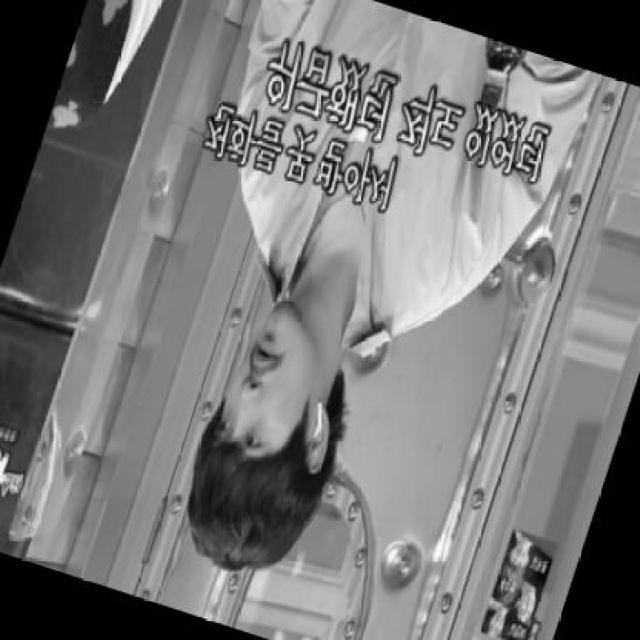earphone: (311, 395, 337, 453)
